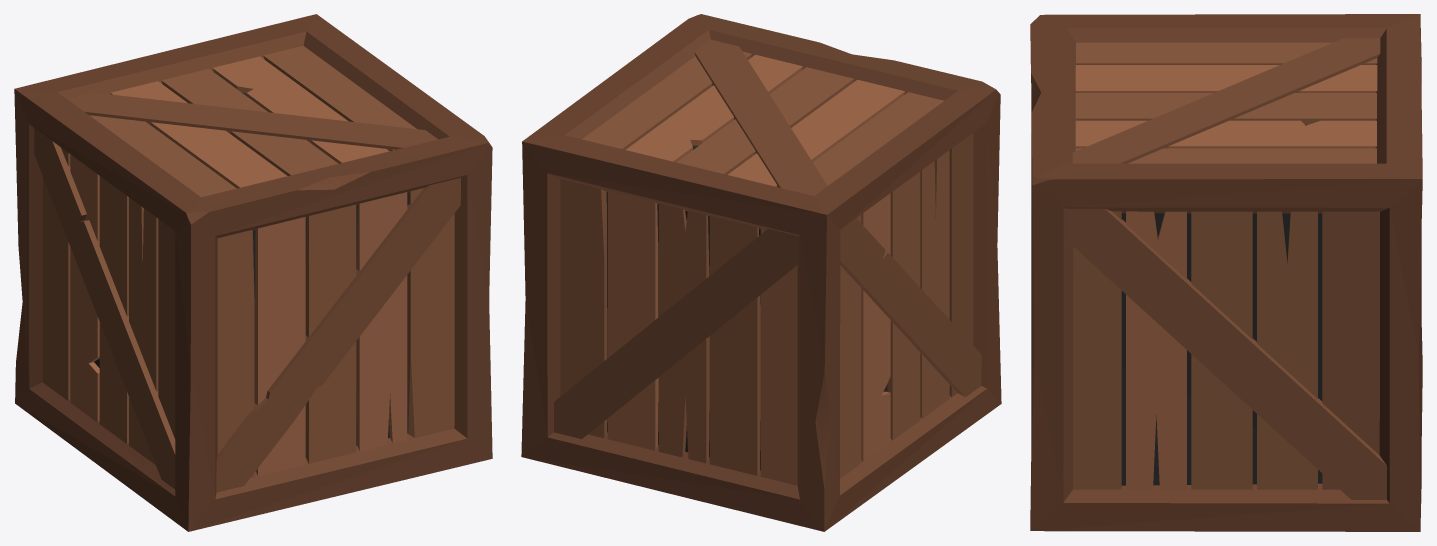
3 views of the same model, side by side, from view 1: azimuth 30°, elevation 25°; view 2: azimuth 150°, elevation 25°; view 3: azimuth 270°, elevation 25° (orthographic). The views are drawn at different scales.
Visible parts, largest first — view 1: Box_01; view 2: Box_01; view 3: Box_01.
Boxes of the visible parts, x1,y1,x2,y2 form: Box_01: [14, 14, 492, 531]; Box_01: [521, 14, 1001, 531]; Box_01: [1030, 14, 1422, 531].
Size of the model in its own units: 94.38 by 93.95 by 94.4.
